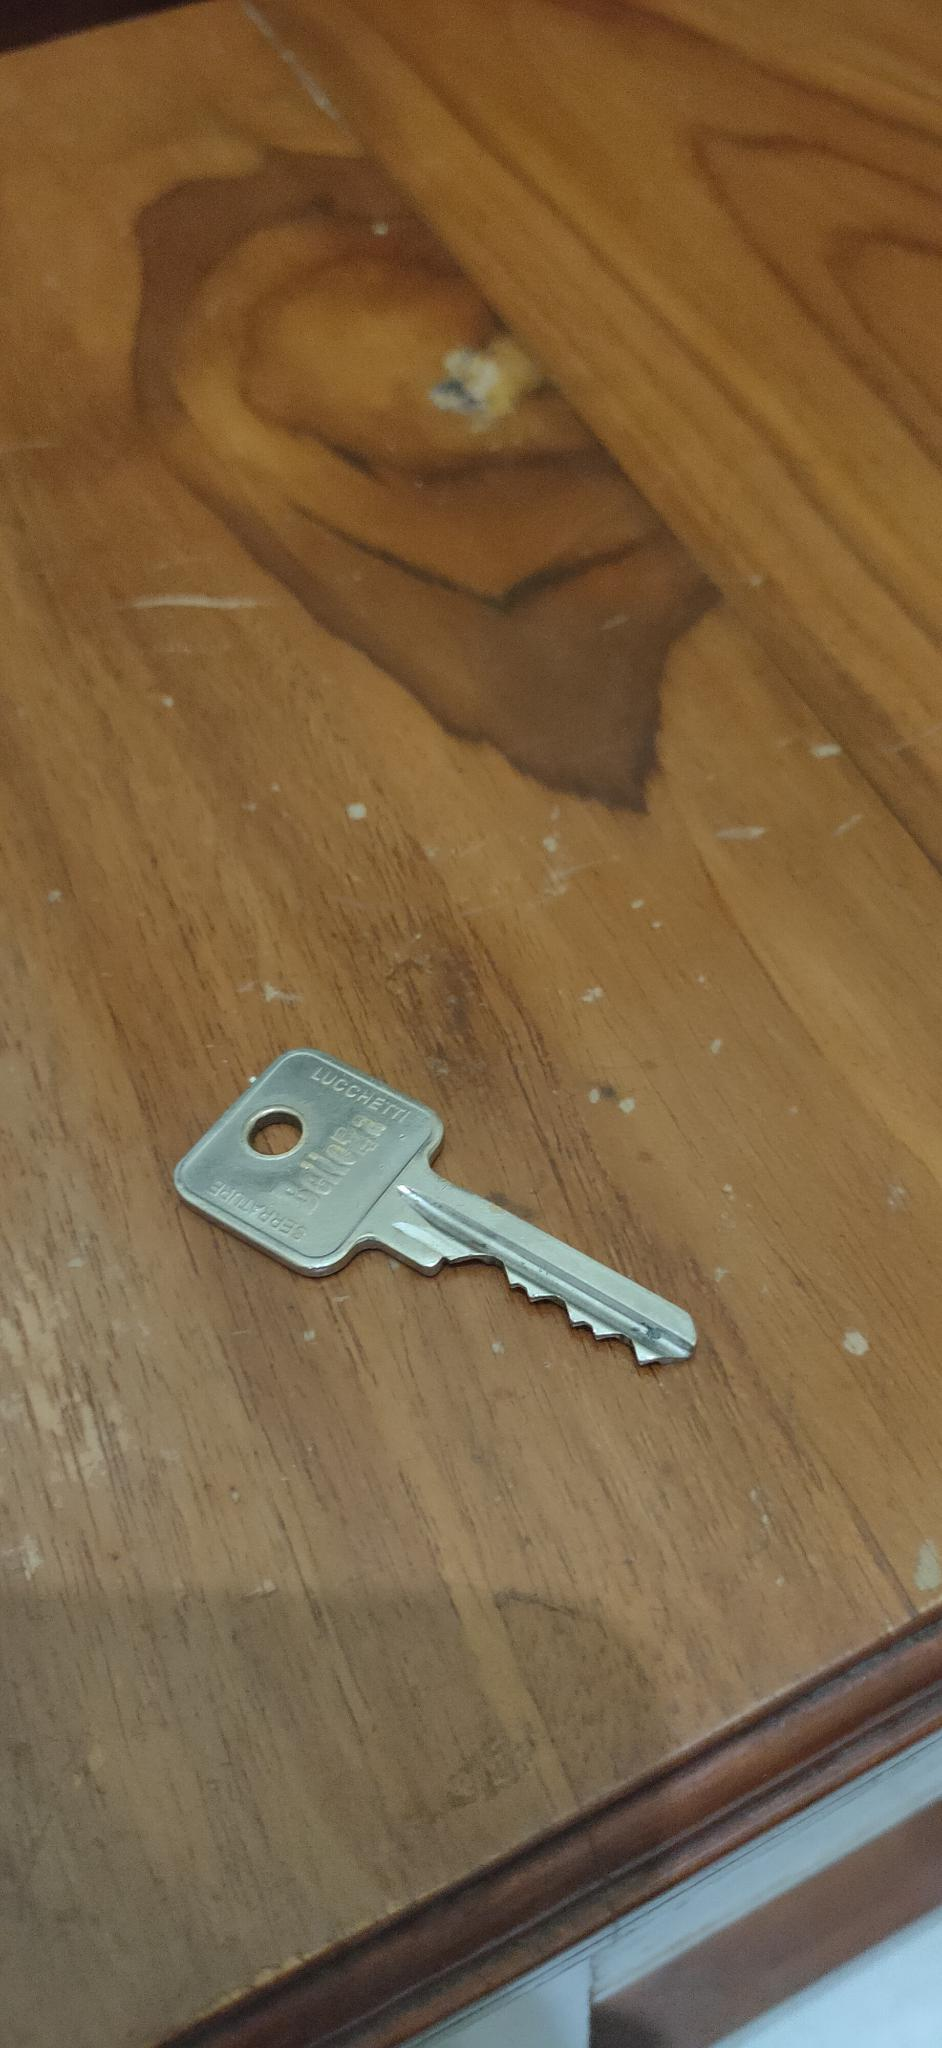keys: (155, 1010, 713, 1398)
